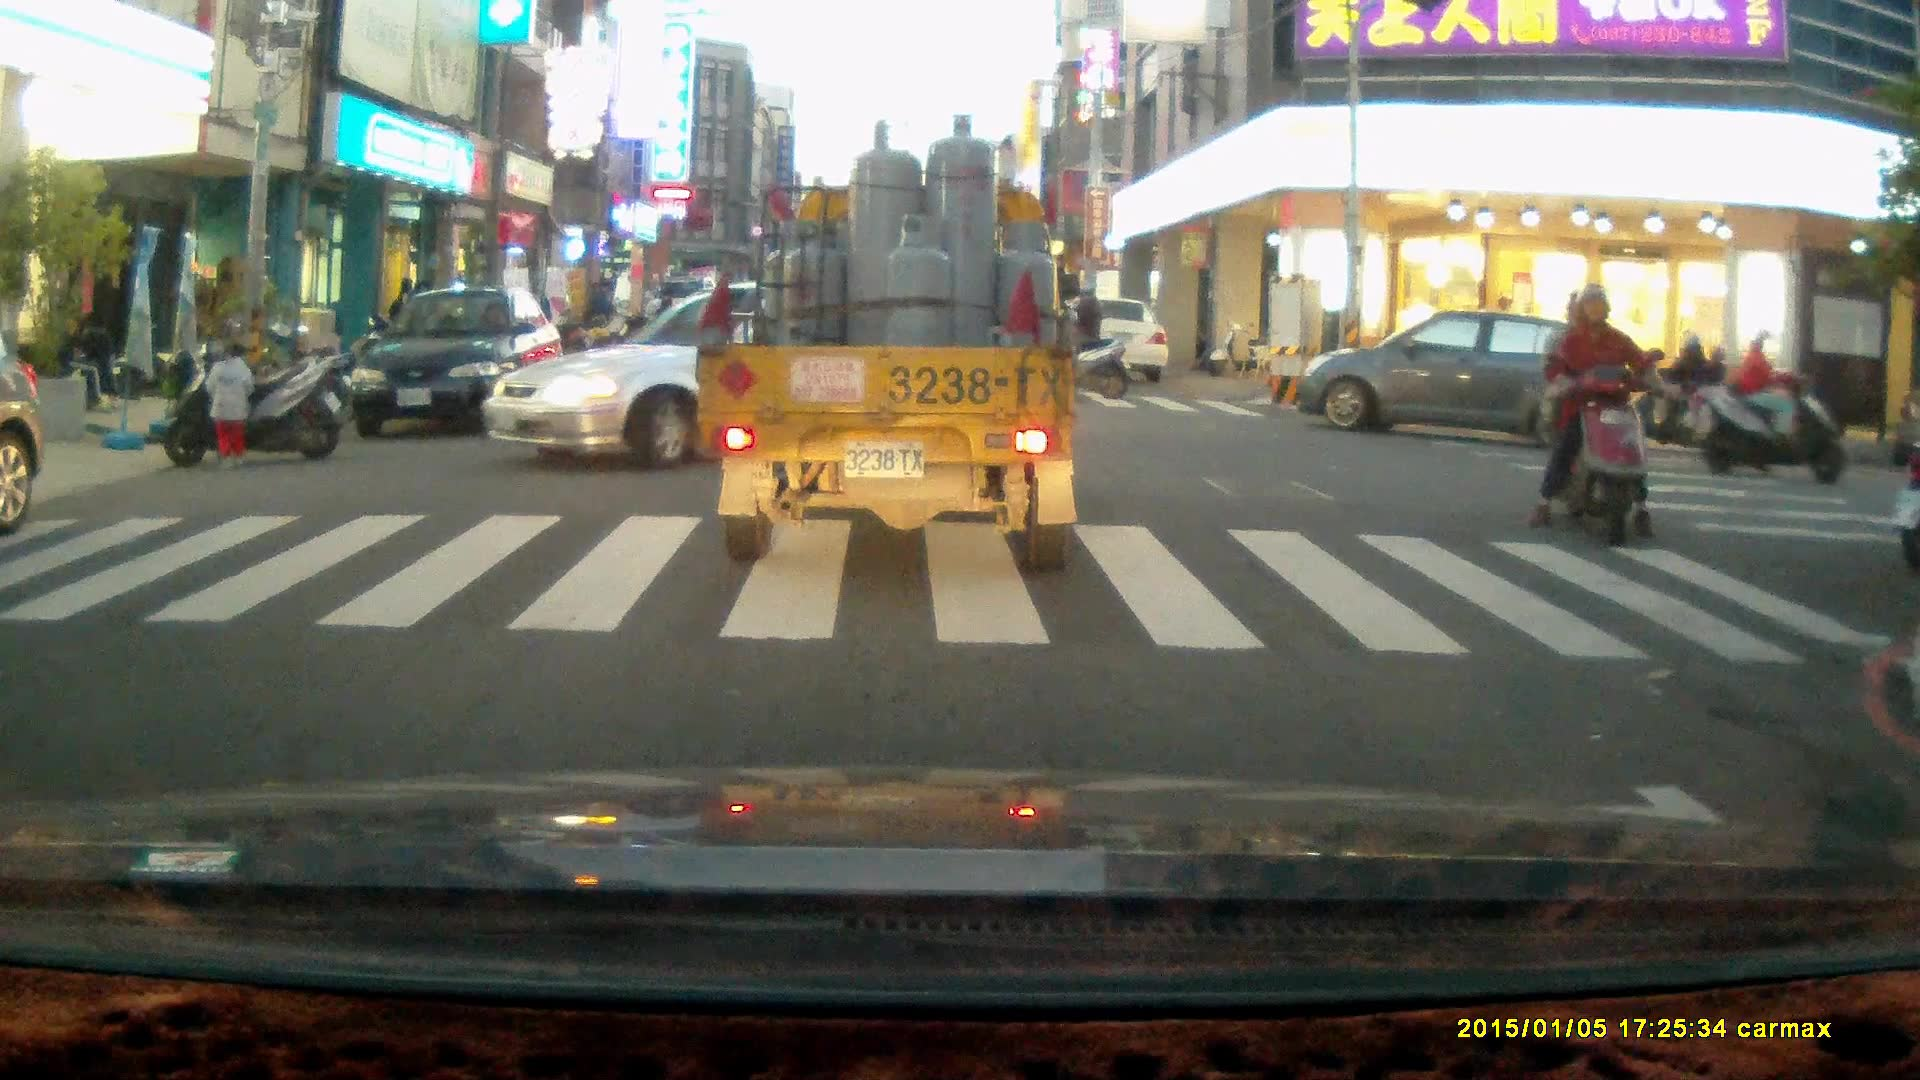pedestrian: (200, 337, 256, 467), (590, 277, 617, 339)
rider: (1525, 286, 1655, 547), (1700, 320, 1842, 482), (1622, 331, 1736, 455), (1036, 280, 1131, 401)
vehicle: (699, 114, 1080, 574), (481, 281, 1006, 462), (1284, 309, 1619, 461), (342, 286, 566, 440), (1069, 297, 1171, 383)
